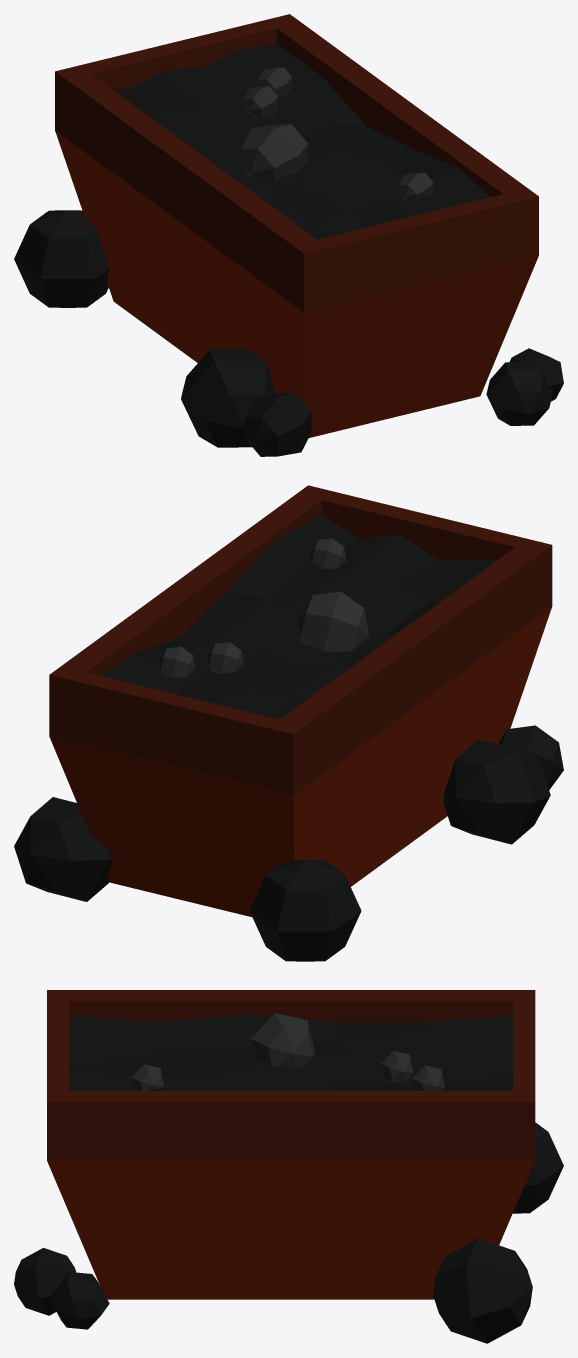
The model's file is CoalContainer.fbx.
3 views of the same model, one above another, from view 1: azimuth 30°, elevation 25°; view 2: azimuth 150°, elevation 25°; view 3: azimuth 270°, elevation 25° (orthographic). The views are drawn at different scales.
Visible parts, largest first — view 1: Cube.039; view 2: Cube.039; view 3: Cube.039.
Boxes of the visible parts, bbox=[...] form: Cube.039: bbox=[14, 14, 563, 456]; Cube.039: bbox=[14, 485, 563, 961]; Cube.039: bbox=[14, 990, 563, 1343].
Size of the model in its own units: 456 by 324 by 652.
